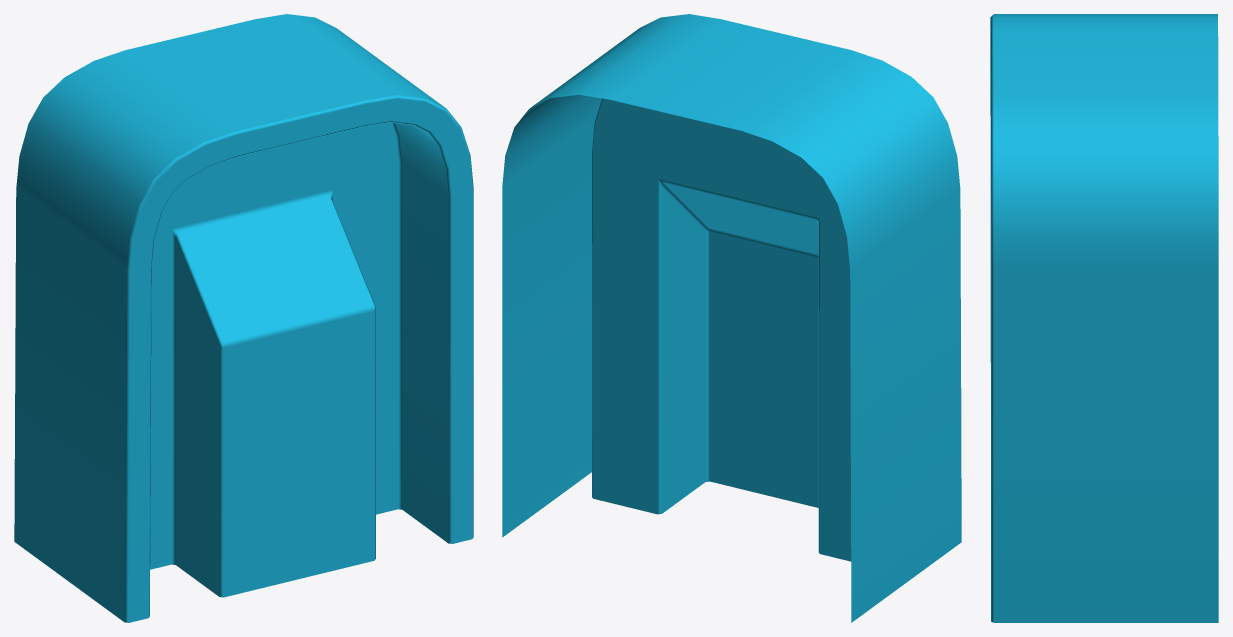
File: SM_ButtonCover.FBX
3 renders of one model, left to right at view 1: azimuth 30°, elevation 25°; view 2: azimuth 150°, elevation 25°; view 3: azimuth 270°, elevation 25°, orthographic.
Visible parts, largest first — view 1: ButtonCover; view 2: ButtonCover; view 3: ButtonCover.
Boxes of the visible parts, <box> form: ButtonCover: <box>14,14,473,622</box>; ButtonCover: <box>502,14,961,622</box>; ButtonCover: <box>990,14,1218,622</box>.
Size of the model in its own units: 63.06 by 80.25 by 35.09.
